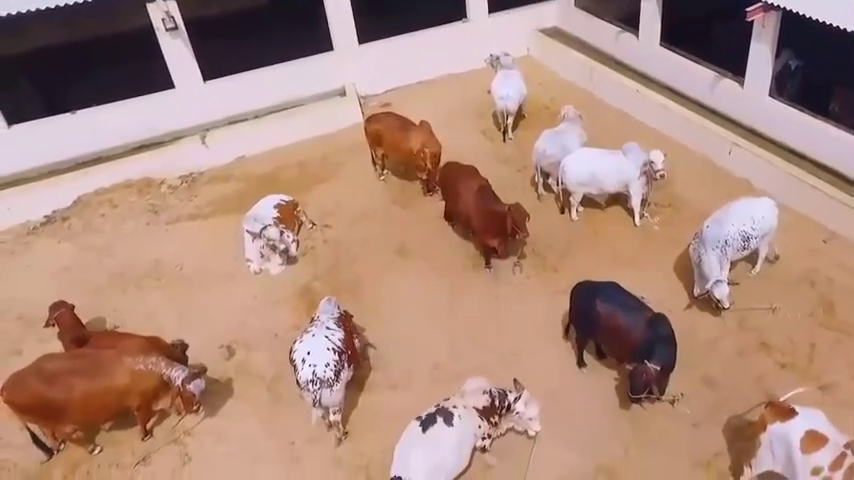bo: (4, 342, 216, 461), (551, 272, 694, 412), (377, 369, 547, 475), (666, 182, 791, 316), (433, 149, 536, 272), (731, 380, 854, 480), (40, 295, 195, 368), (289, 280, 360, 437), (351, 96, 443, 201), (554, 134, 668, 218), (237, 186, 317, 278), (467, 32, 527, 132), (524, 101, 581, 183)
